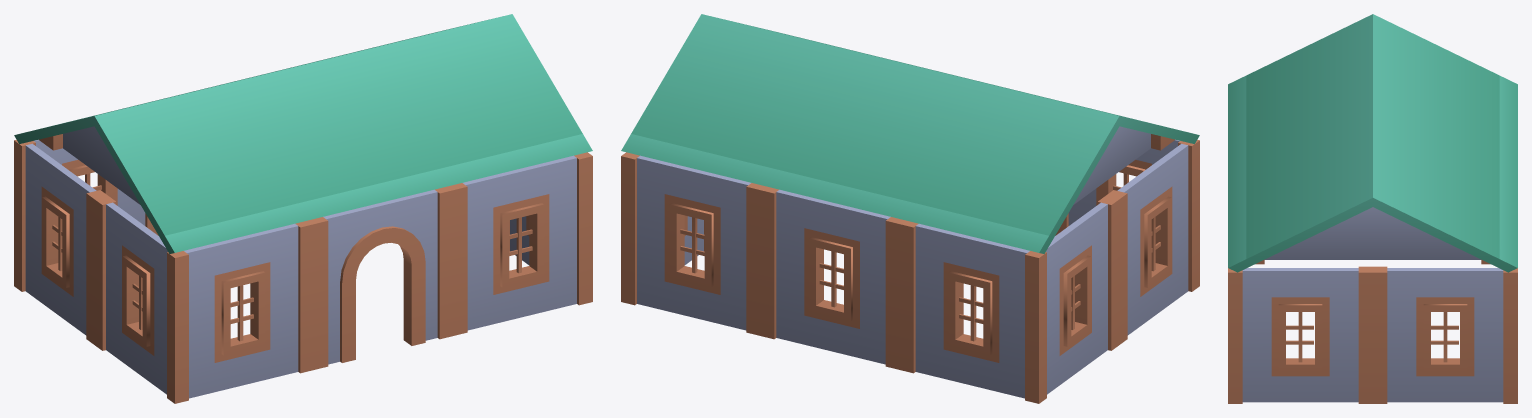
The model's file is house.glb.
3 renders of one model, left to right at view 1: azimuth 30°, elevation 25°; view 2: azimuth 150°, elevation 25°; view 3: azimuth 270°, elevation 25°, orthographic. The views are drawn at different scales.
Parts seen in each view (by area): view 1: wall-window-glass; view 2: wall-window-glass; view 3: wall-window-glass.
Part boxes in pixels (left/top/right/bottom): wall-window-glass: left=14, top=14, right=592, bottom=403; wall-window-glass: left=621, top=14, right=1199, bottom=403; wall-window-glass: left=1228, top=14, right=1517, bottom=403.
Bounding box in the file's own units: 3 × 1.57 × 2.
Materials: 1 (1 with a texture image).
